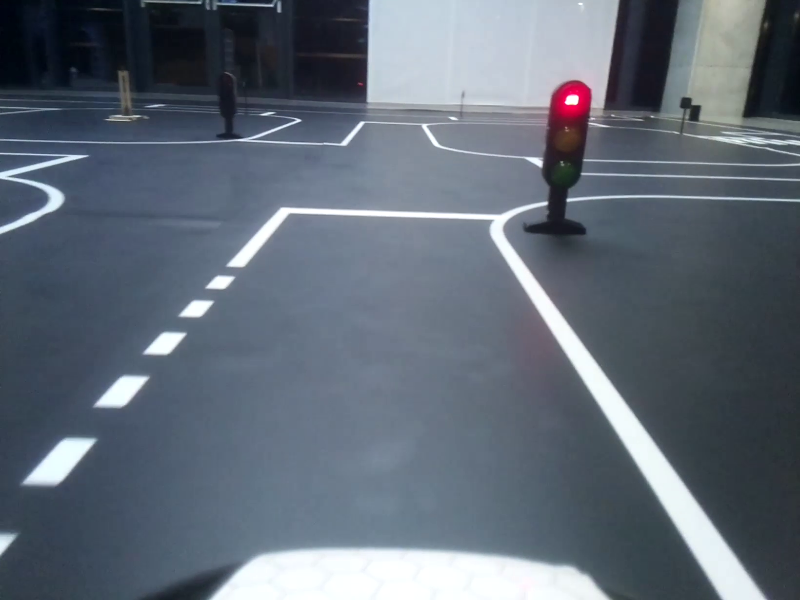traffic_red: (549, 79, 587, 185)
